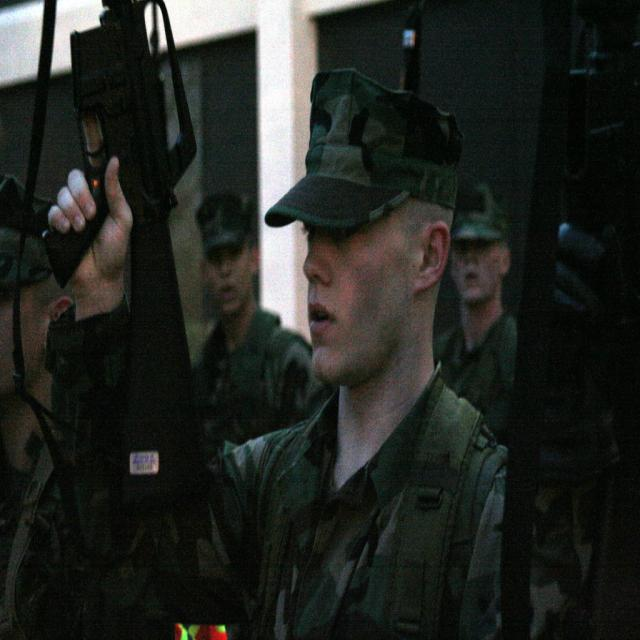Hat: (263, 64, 465, 226), (0, 170, 51, 290), (449, 183, 508, 243), (195, 191, 257, 247)
